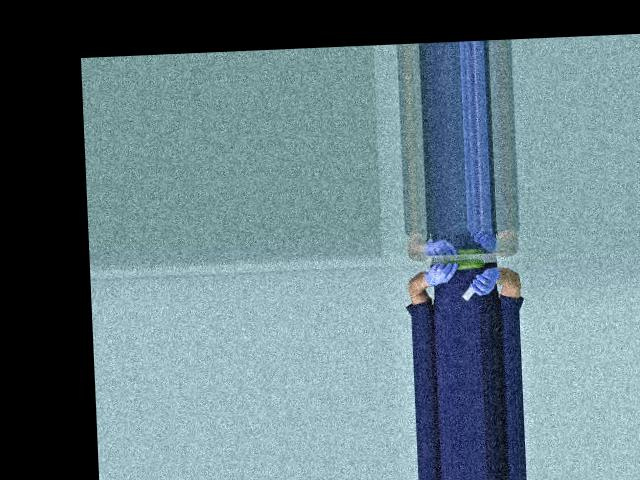cucumber: (445, 258, 485, 270)
